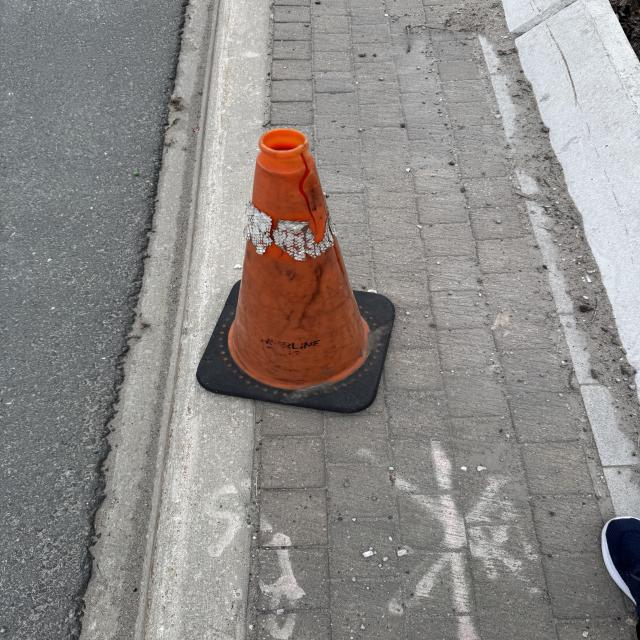Traffic Cone: (196, 130, 394, 415)
